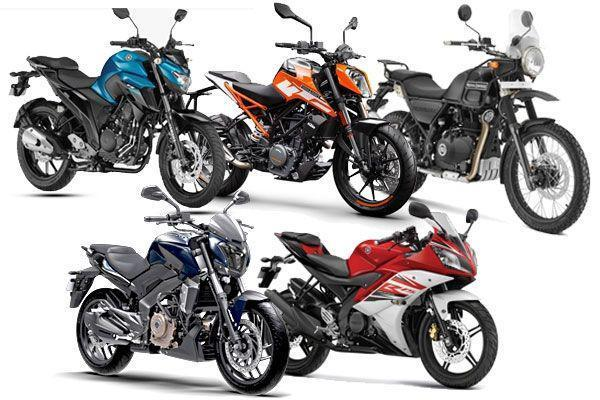motorcycle: (44, 184, 290, 397), (314, 201, 509, 394), (253, 5, 416, 192), (98, 9, 235, 181), (444, 17, 580, 187)
